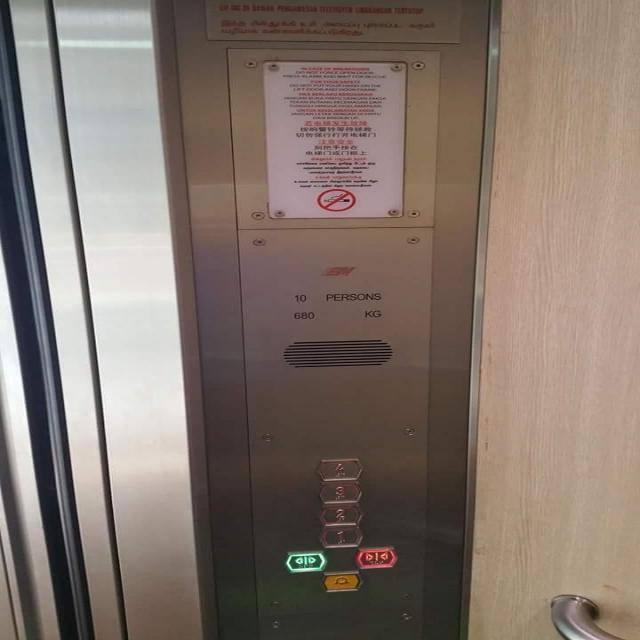1: (318, 523, 364, 547)
2: (317, 504, 363, 526)
3: (316, 481, 362, 503)
4: (314, 457, 364, 481)
alarm: (319, 570, 364, 592)
close: (354, 546, 397, 568)
open: (282, 550, 326, 573)
